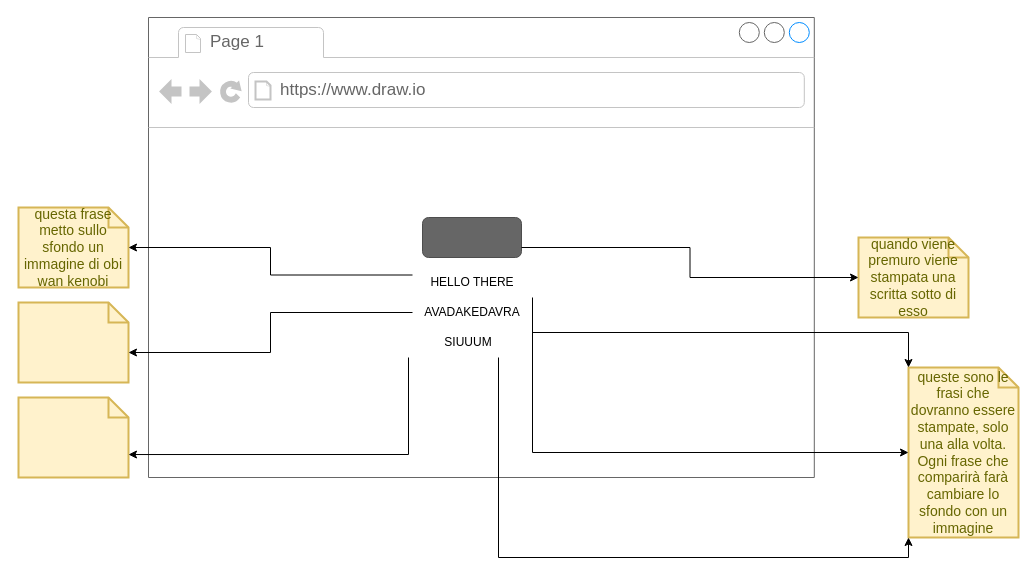
The diagram is 1036 pixels wide and 583 high, and some of its shapes have lost their labels. Each missing label, with the box of its shape:
questa frase mette come sfondo un immagine di ronaldo: (17, 396, 129, 478)
questa frase mette come sfondo un immagine di voldemort: (17, 301, 129, 383)
See the magic: (422, 216, 522, 258)
